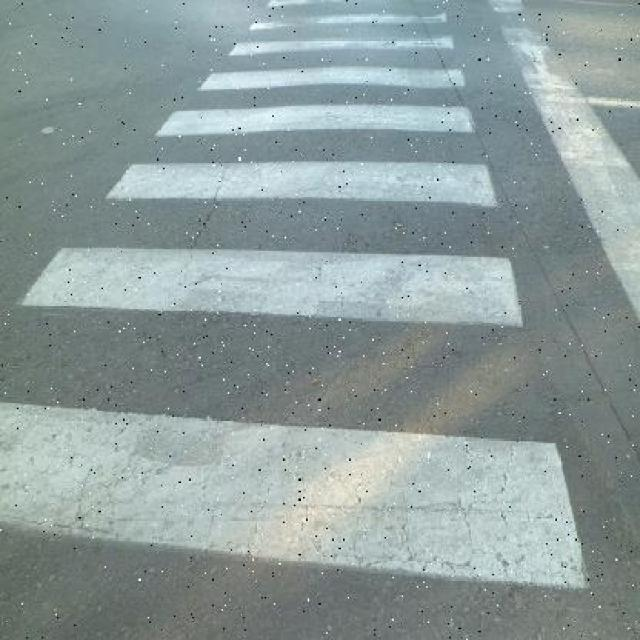crosswalk: (0, 0, 586, 591)
